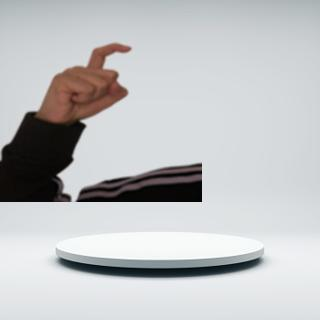WHY: (35, 36, 138, 123)
